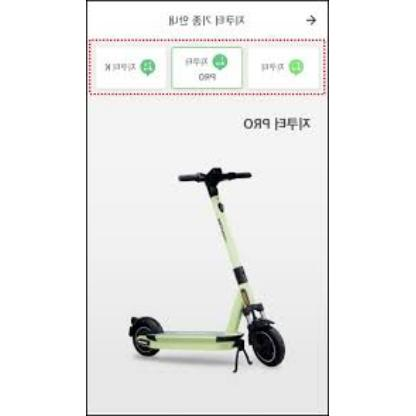bike: (128, 168, 286, 373)
